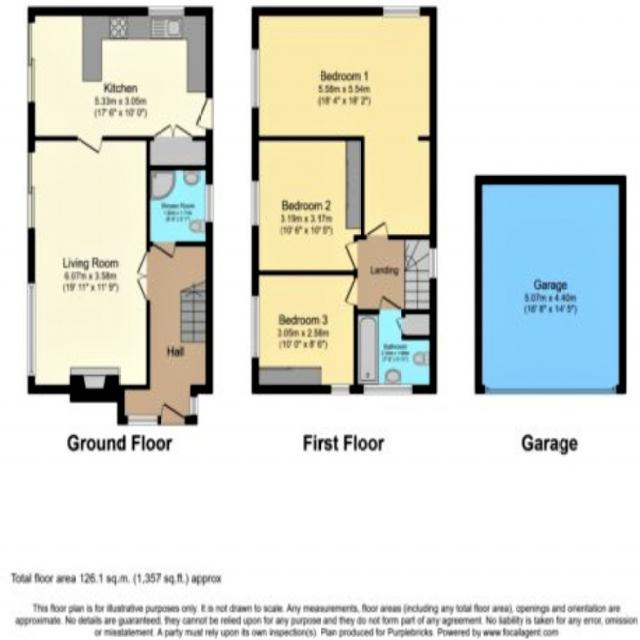DOOR: (193, 96, 214, 131), (160, 401, 186, 425), (76, 135, 104, 155), (151, 241, 178, 260), (378, 294, 402, 315), (365, 219, 389, 240), (343, 239, 358, 270), (343, 276, 358, 306)
FOLDING DOOR: (24, 17, 41, 110), (25, 147, 41, 237)
ROOM: (251, 6, 438, 241), (27, 135, 151, 402), (28, 6, 213, 170), (251, 136, 365, 276), (251, 270, 359, 395)
WINDOW: (26, 281, 37, 378), (250, 293, 261, 360), (250, 48, 261, 111), (362, 383, 414, 396), (382, 5, 420, 18), (146, 5, 186, 17), (204, 183, 215, 224), (251, 180, 260, 227), (127, 413, 159, 426), (428, 246, 438, 280), (188, 395, 199, 417), (330, 384, 351, 395)
